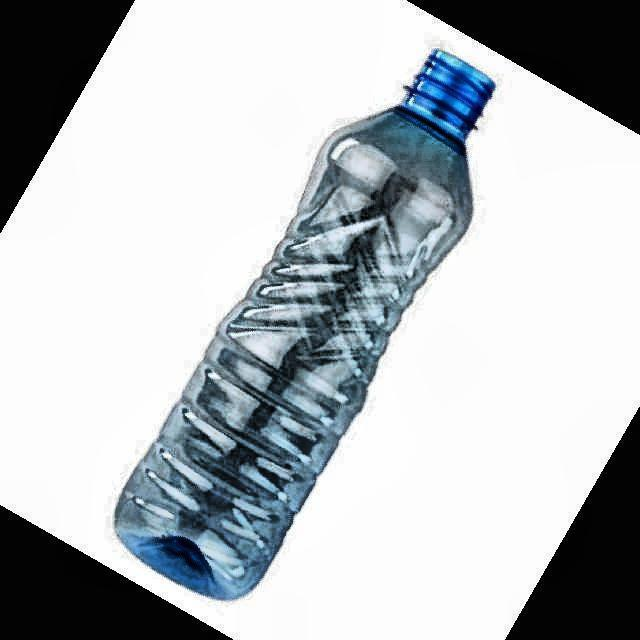plastic: (115, 51, 494, 599)
